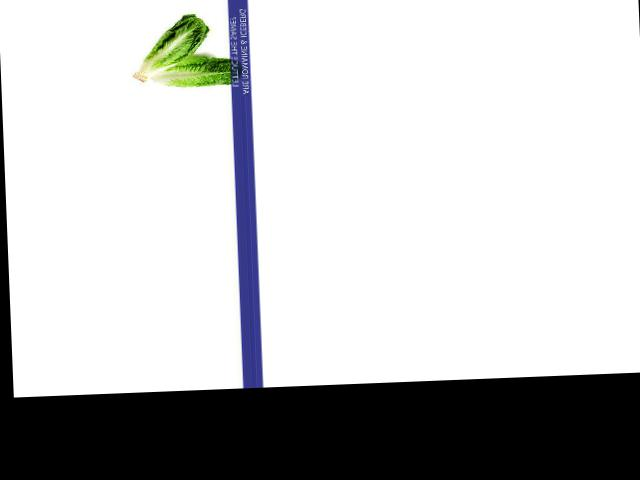lettuce: (121, 16, 215, 82)
